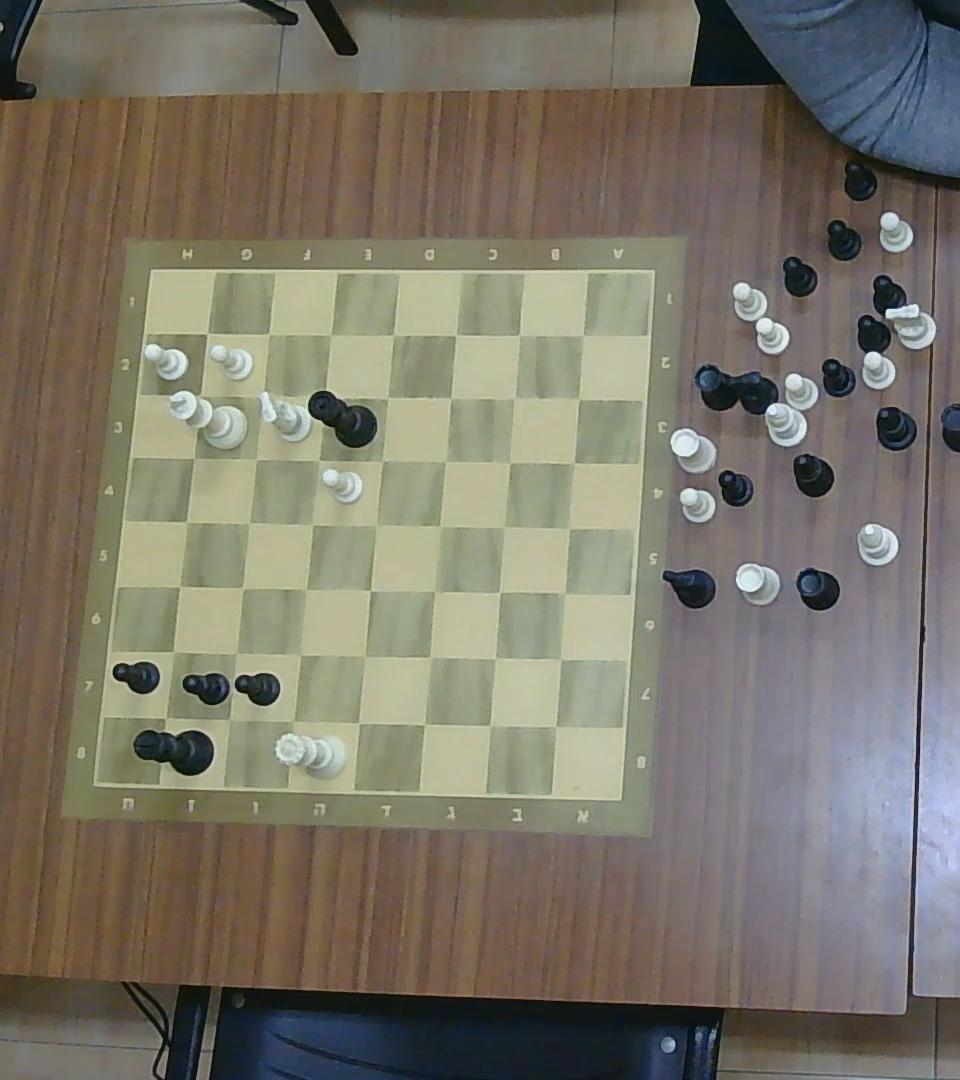xcorner: (477, 712, 503, 738), (246, 383, 272, 409), (543, 714, 569, 739), (412, 711, 437, 736), (418, 645, 442, 670), (281, 708, 305, 732), (347, 710, 371, 734), (482, 647, 506, 671), (353, 644, 376, 668), (288, 642, 311, 666), (154, 706, 178, 728), (319, 324, 341, 346), (439, 387, 461, 408), (218, 708, 240, 729), (372, 449, 392, 471), (549, 648, 571, 668), (188, 386, 210, 406), (366, 514, 386, 535), (225, 642, 245, 663), (423, 581, 443, 602), (296, 577, 315, 599), (183, 447, 203, 467), (429, 516, 449, 536), (488, 582, 508, 602), (559, 518, 579, 538), (247, 448, 266, 469), (170, 576, 189, 597), (302, 514, 321, 534), (435, 450, 454, 470), (378, 388, 397, 408), (198, 322, 217, 342), (555, 582, 574, 602), (446, 325, 465, 345), (177, 511, 196, 531), (259, 324, 278, 344), (164, 641, 183, 661), (315, 386, 334, 406), (384, 326, 403, 345), (495, 516, 513, 536), (309, 450, 327, 470), (500, 452, 518, 472), (505, 388, 523, 407), (361, 581, 380, 599), (240, 513, 258, 532), (564, 453, 583, 471), (233, 579, 251, 598), (511, 326, 529, 344), (573, 327, 591, 344), (571, 390, 588, 405)
